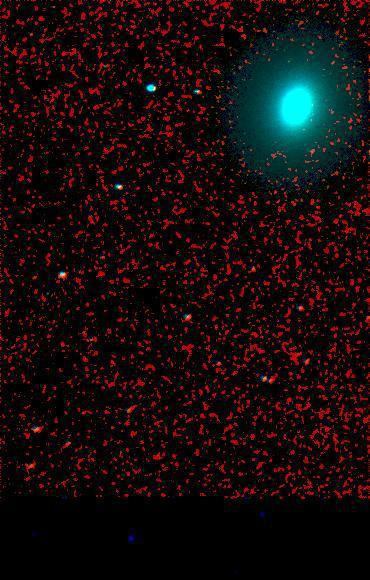star: (297, 139, 327, 169)
